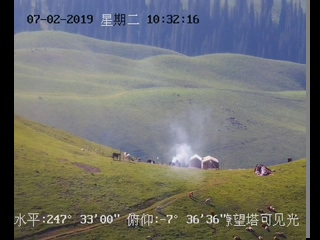smoke: (167, 131, 199, 165)
